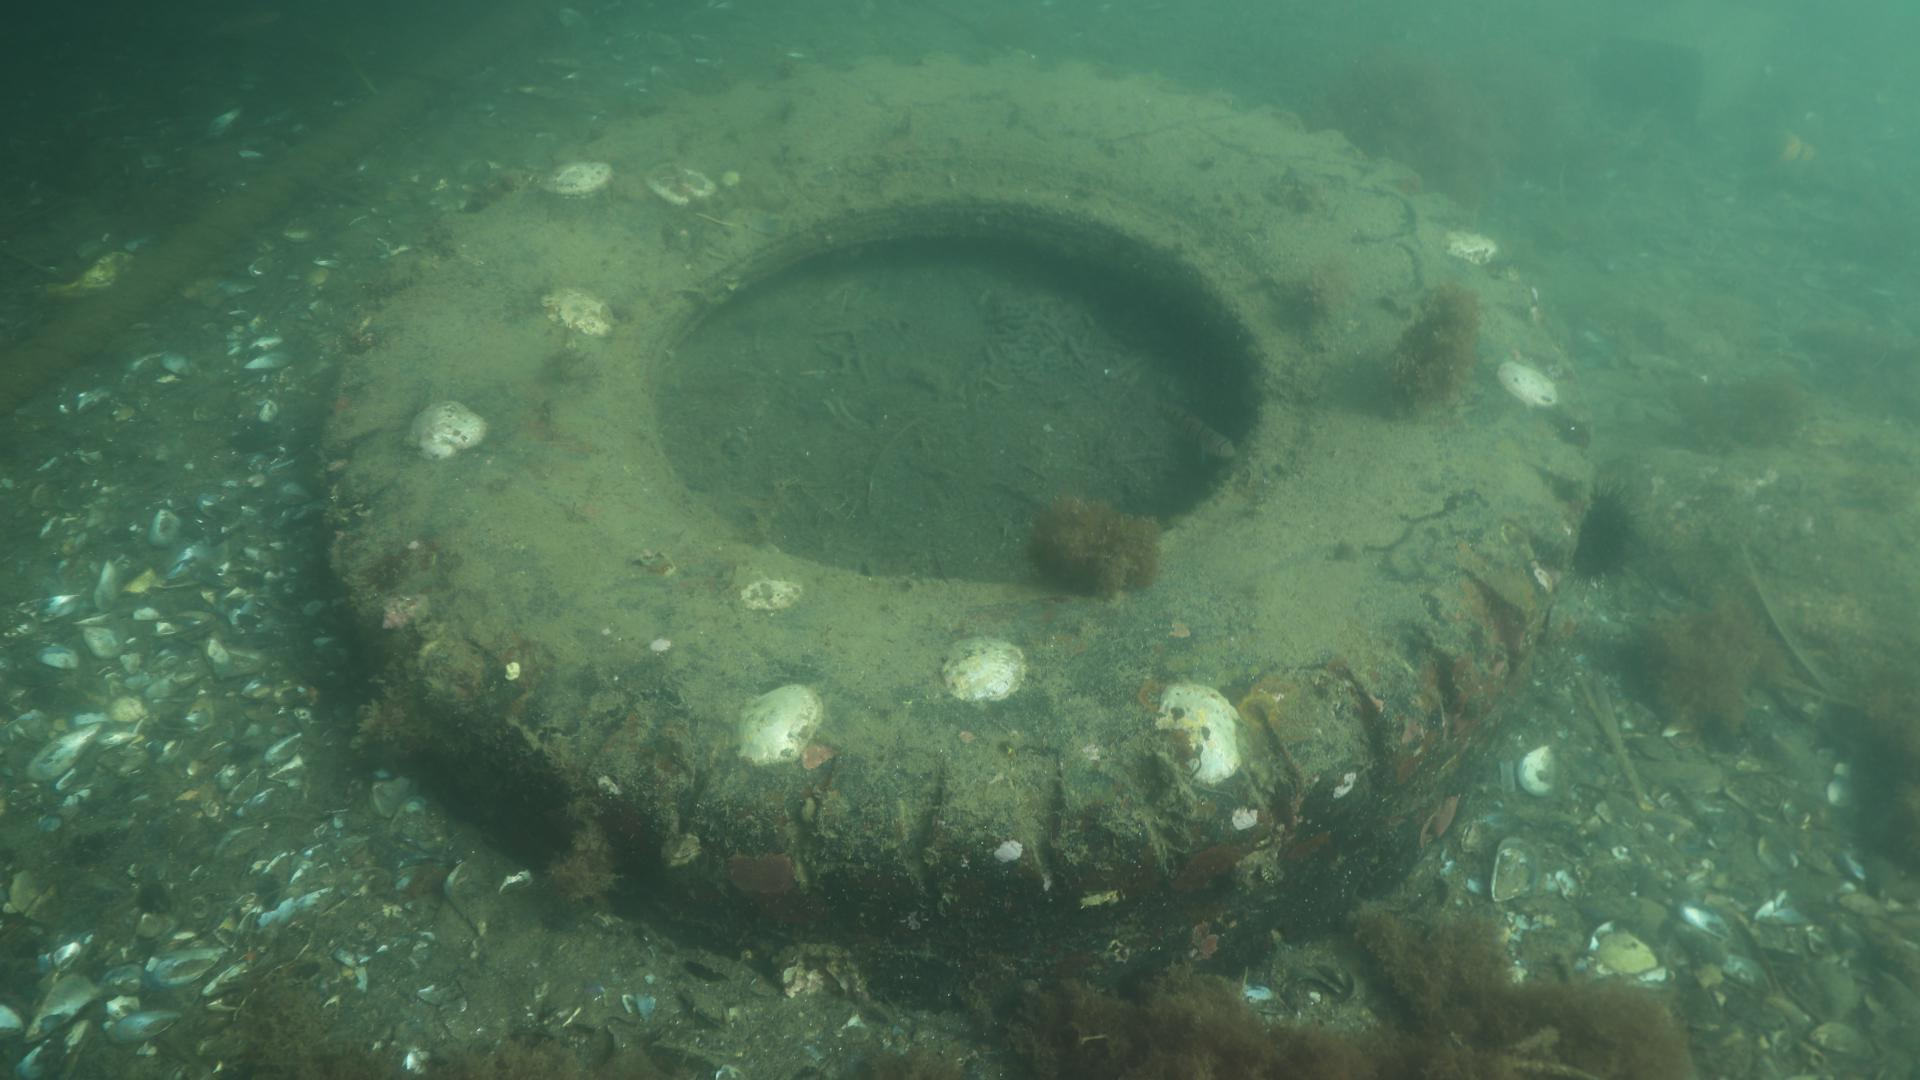tire: (320, 53, 1593, 992)
